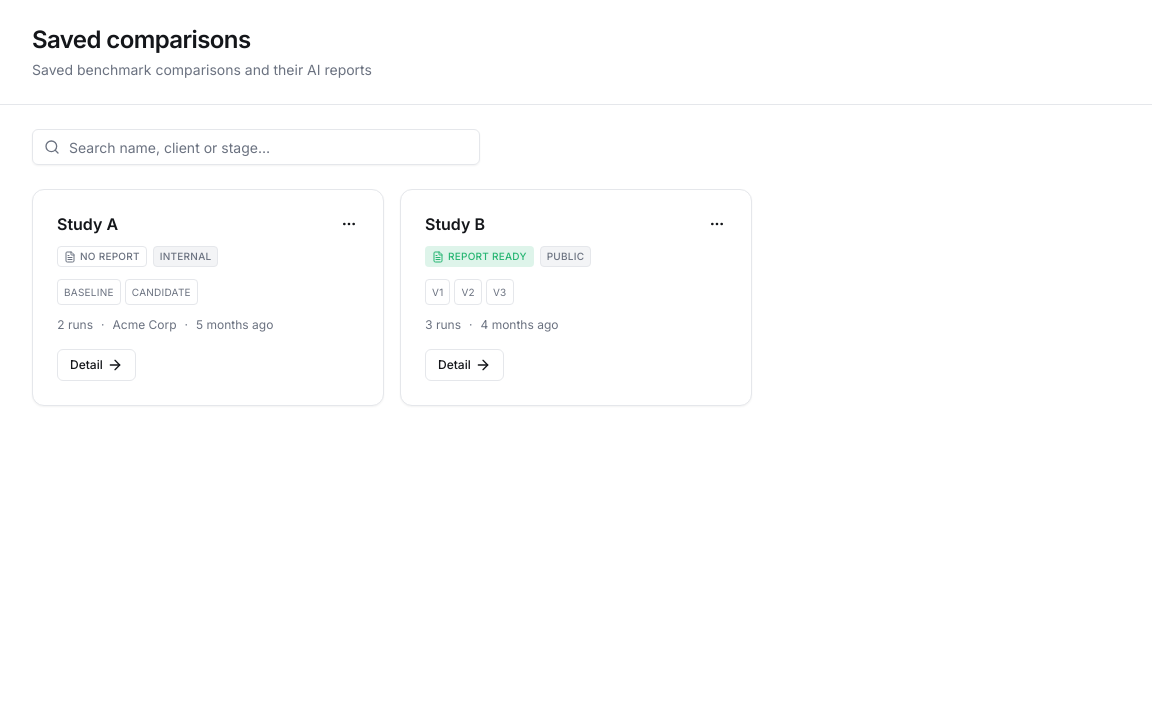
SavedComparesListPage › opens delete confirmation from the card menu
Expected: the link "Study A" is shown, [57,214,118,234]
Click the button named "actions" in the row of "Study A" at (349, 224), box [335,210,363,238]
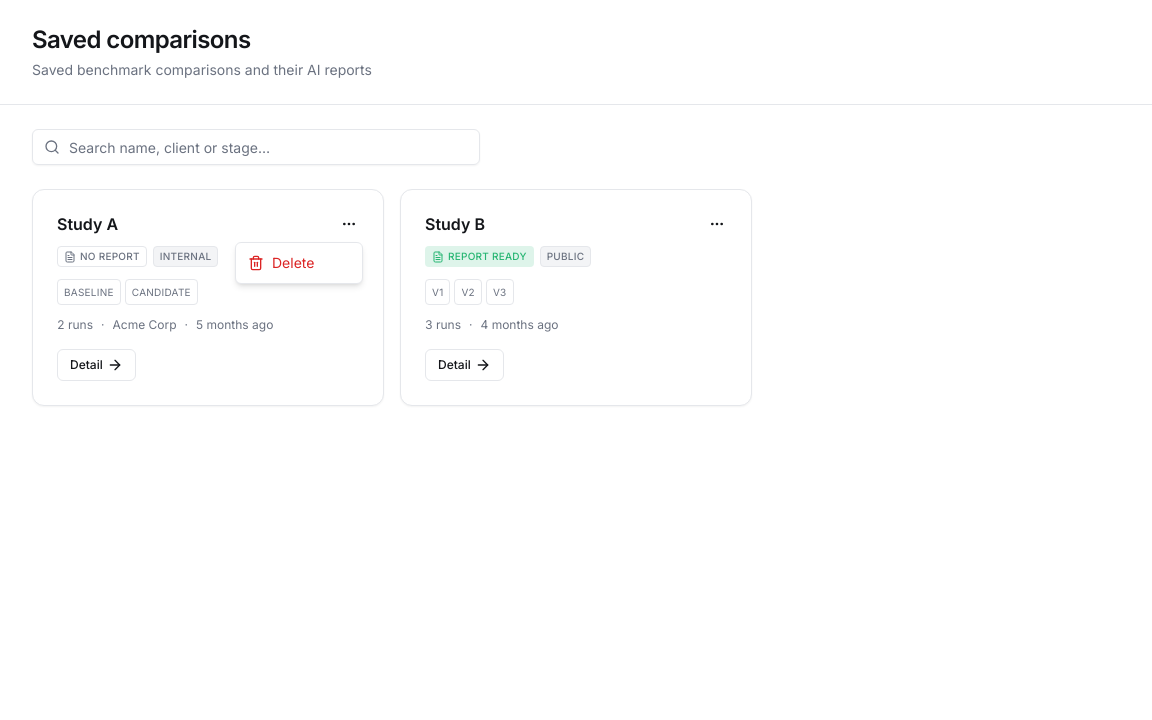
Click the menu item "Delete" at (281, 262), box [248,254,314,271]
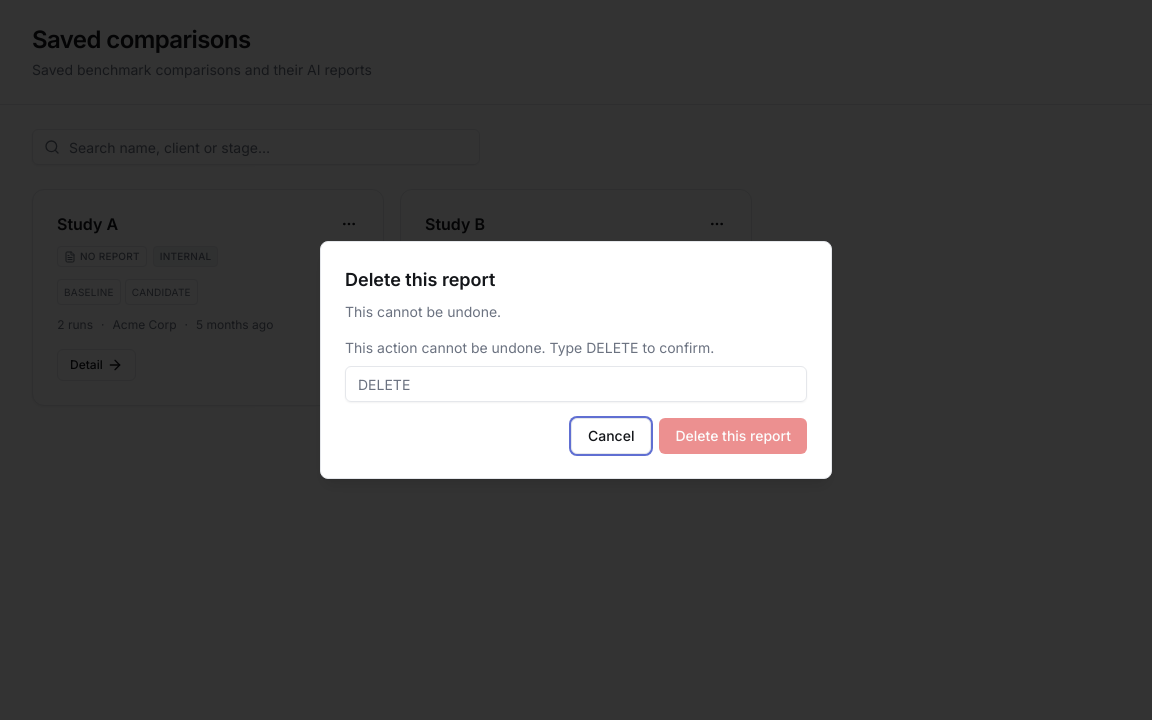
Result: the field with placeholder "DELETE" is shown at [345,366,807,402]
